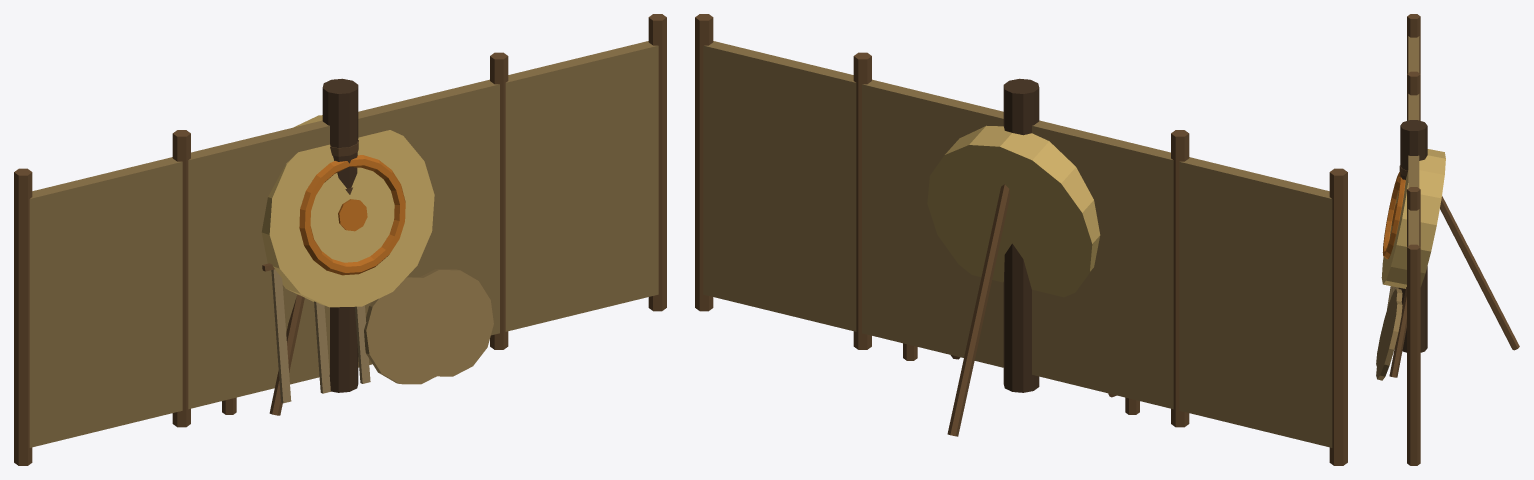
Rendered from training.glb.
3 views of the same model, side by side, from view 1: azimuth 30°, elevation 25°; view 2: azimuth 150°, elevation 25°; view 3: azimuth 270°, elevation 25° (orthographic). The views are drawn at different scales.
Parts seen in each view (by area): view 1: backstop, target, rack, post; view 2: backstop, target, post; view 3: target, backstop, post, rack.
Boxes of the visible parts, x1,y1,x2,y2 form: backstop: (14,14,666,465); target: (261,115,434,415); rack: (222,263,493,414); post: (322,78,358,392); backstop: (695,14,1347,465); target: (927,125,1116,436); post: (1003,78,1039,392); target: (1381,149,1519,377); backstop: (1407,14,1420,465); post: (1399,120,1427,352); rack: (1376,286,1402,380).
Bounding box in the file's own units: 4.09 × 1.81 × 1.05.
Materials: 1 (1 with a texture image).
